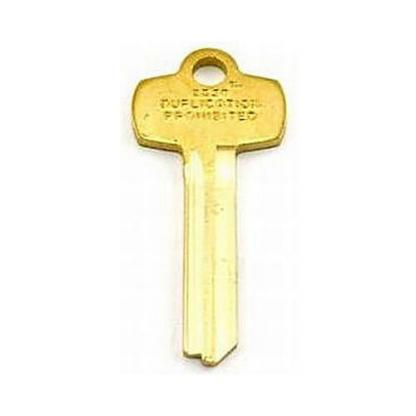key: (128, 46, 290, 363)
